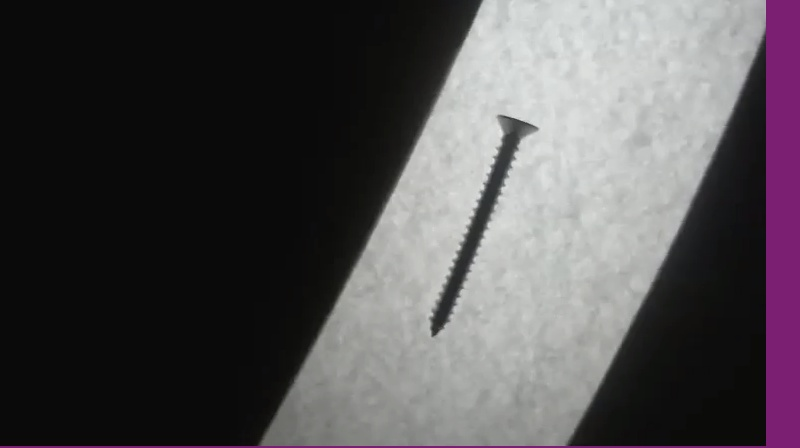S002: (427, 107, 544, 338)
